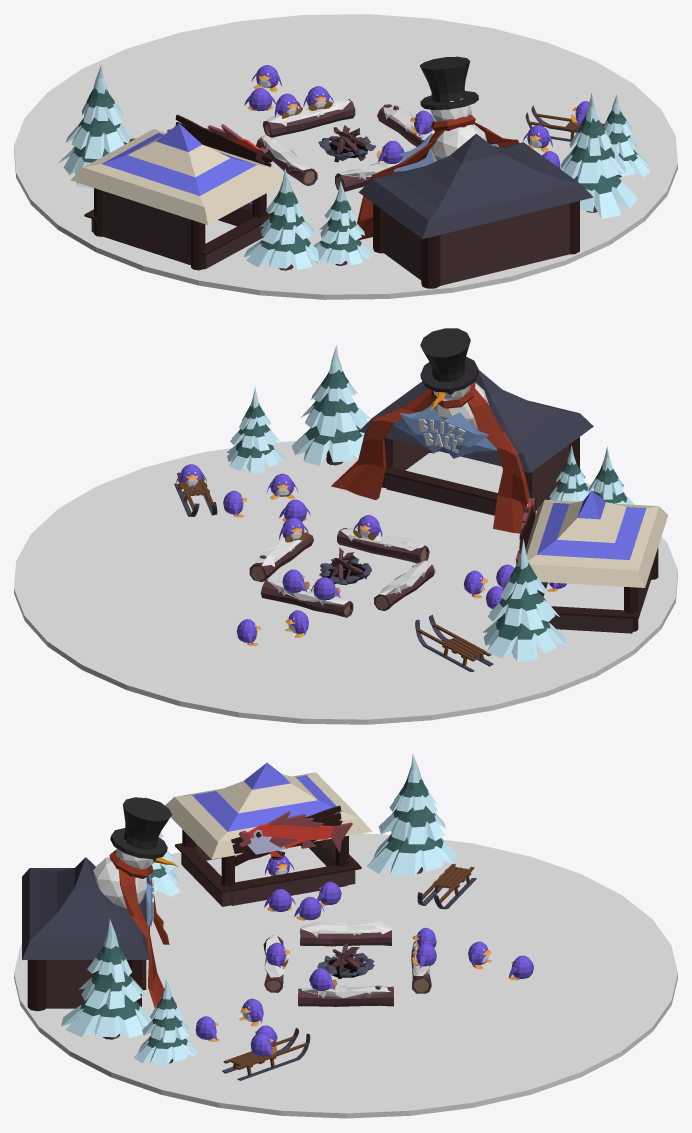
Rendered from frostivalscene.fbx.
The picture shows the model from 3 angles, top to bottom: view 1: azimuth 30°, elevation 25°; view 2: azimuth 150°, elevation 25°; view 3: azimuth 270°, elevation 25°; orthographic projection.
Visible parts, largest first — view 1: Cylinder, Cone, Cone.003, Cube.001, Cube.029, Cylinder.004, Cone.016, Cone.008, Cone.005, Cone.004, Cube.003, Cube.028 (+31 smaller); view 2: Cylinder, Cone.003, Cone, Cube.007, Cube.008, Cylinder.004, Cube.006, Cone.007, Cube.027, Cone.004, Cone.005, Cone.008 (+17 smaller); view 3: Cylinder, Cone, Cone.003, Cylinder.004, Cube.026, Cone.007, Cone.004, Cube.002, Cone.008, Cone.005, Cube.030, Cube.008 (+15 smaller).
Part boxes in pixels (left/top/right/bottom): Cylinder: left=14, top=14, right=677, bottom=299; Cone: left=358, top=133, right=593, bottom=238; Cone.003: left=70, top=123, right=283, bottom=224; Cube.001: left=440, top=203, right=569, bottom=285; Cube.029: left=103, top=191, right=190, bottom=265; Cylinder.004: left=419, top=56, right=478, bottom=110; Cone.016: left=244, top=233, right=319, bottom=269; Cone.008: left=65, top=117, right=132, bottom=159; Cone.005: left=560, top=144, right=625, bottom=183; Cone.004: left=574, top=175, right=637, bottom=218; Cube.003: left=384, top=211, right=421, bottom=280; Cube.028: left=199, top=212, right=273, bottom=269; Cylinder: left=14, top=441, right=677, bottom=724; Cone.003: left=525, top=490, right=668, bottom=587; Cone: left=359, top=370, right=593, bottom=473; Cube.007: left=467, top=388, right=535, bottom=533; Cube.008: left=331, top=389, right=432, bottom=500; Cylinder.004: left=420, top=328, right=478, bottom=392; Cube.006: left=392, top=405, right=497, bottom=458; Cone.007: left=483, top=613, right=566, bottom=661; Cube.027: left=549, top=606, right=639, bottom=633; Cone.004: left=291, top=425, right=364, bottom=465; Cone.005: left=300, top=393, right=370, bottom=436; Cone.008: left=487, top=587, right=559, bottom=630; Cylinder: left=14, top=833, right=677, bottom=1118; Cone: left=22, top=857, right=149, bottom=959; Cone.003: left=165, top=762, right=371, bottom=859; Cylinder.004: left=110, top=797, right=172, bottom=859; Cube.026: left=224, top=862, right=355, bottom=905; Cone.007: left=367, top=834, right=457, bottom=876; Cone.004: left=61, top=994, right=153, bottom=1038; Cube.002: left=46, top=960, right=95, bottom=1008; Cone.008: left=378, top=805, right=445, bottom=844; Cone.005: left=78, top=970, right=144, bottom=1009; Cube.030: left=247, top=823, right=334, bottom=854; Cube.008: left=118, top=868, right=164, bottom=1008.
Size of the model in its own units: 5772 by 5772 by 1683.
